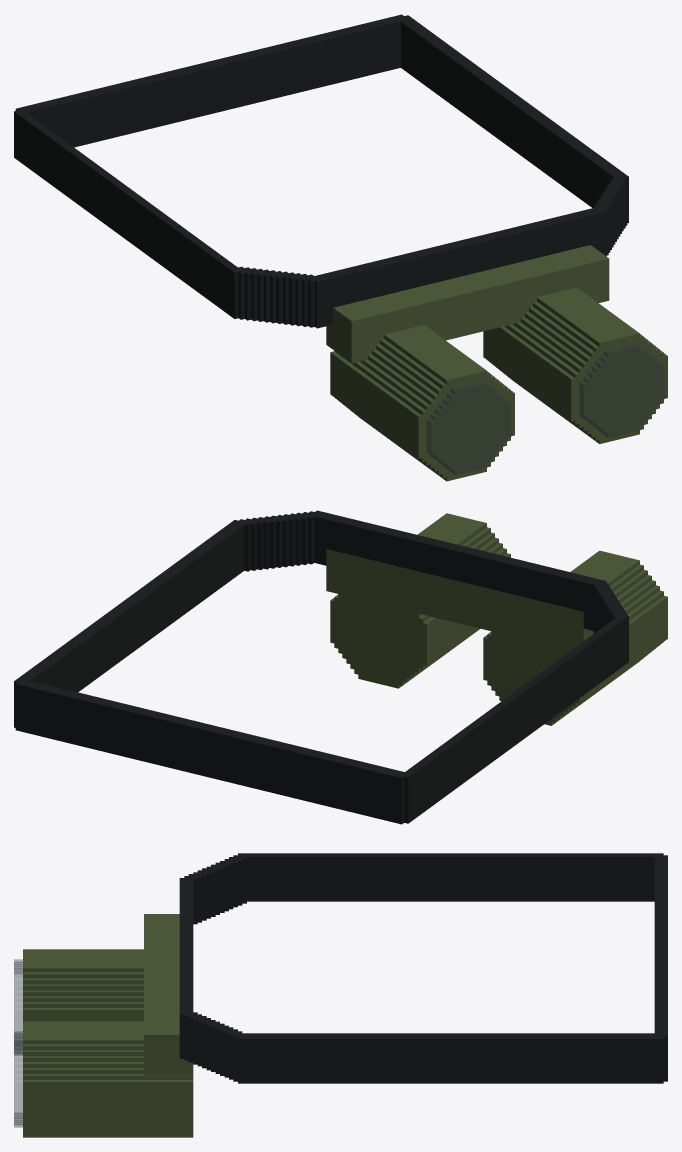
Rendered from night_vision_goggles.glb.
3 renders of one model, top to bottom at view 1: azimuth 30°, elevation 25°; view 2: azimuth 150°, elevation 25°; view 3: azimuth 270°, elevation 25°, orthographic. The views are drawn at different scales.
Visible parts, largest first — view 1: goggles:compound; view 2: goggles:compound; view 3: goggles:compound.
Boxes of the visible parts, x1,y1,x2,y2 form: goggles:compound: (14, 14, 667, 481); goggles:compound: (14, 510, 667, 824); goggles:compound: (14, 853, 667, 1137).
Bounding box in the file's own units: 0.196 × 0.072 × 0.292.
